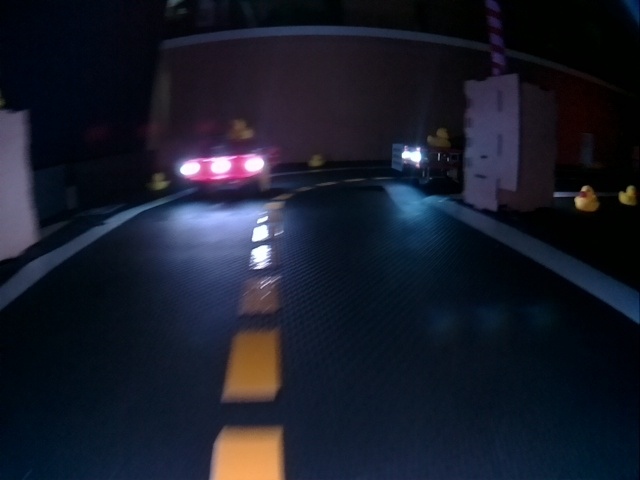Duckie: (577, 186, 599, 211), (228, 118, 253, 139), (149, 171, 170, 191), (429, 127, 448, 147), (308, 153, 324, 168)
Duckiebot: (181, 142, 282, 188), (402, 143, 464, 184)
